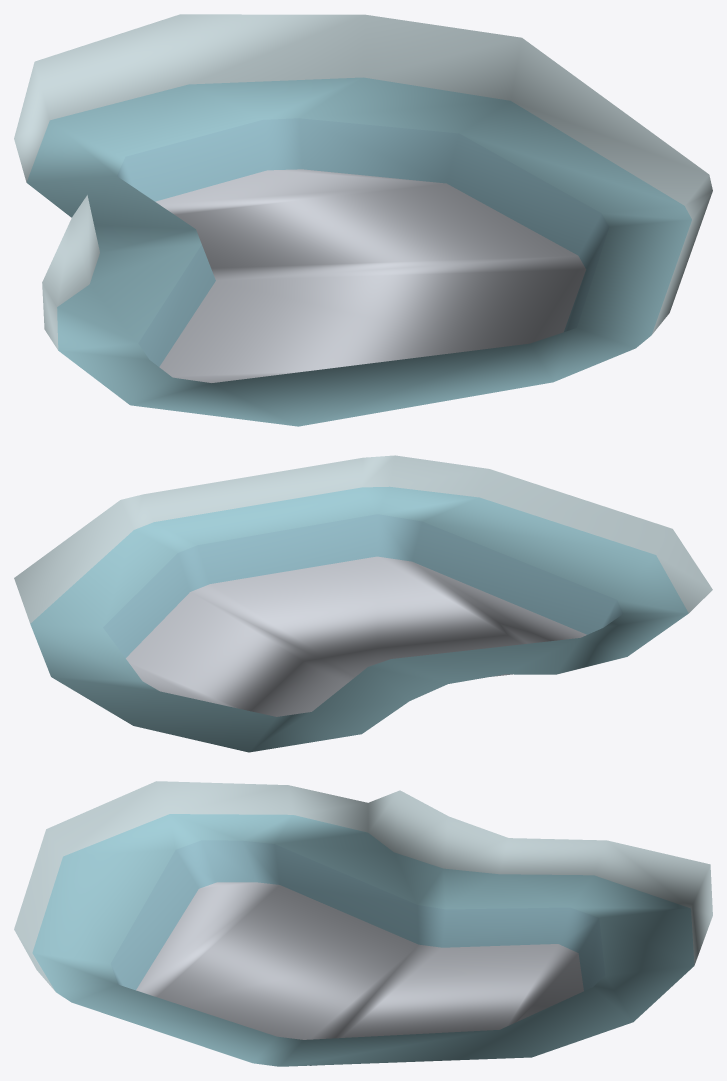
File: welcomeIceBergColliderPool.glb
3 renders of one model, top to bottom at view 1: azimuth 30°, elevation 25°; view 2: azimuth 150°, elevation 25°; view 3: azimuth 270°, elevation 25°, orthographic. The views are drawn at different scales.
Parts seen in each view (by area): view 1: welcomeIceBergColliderPool; view 2: welcomeIceBergColliderPool; view 3: welcomeIceBergColliderPool.
Part boxes in pixels (x1,y1,x2,y2): welcomeIceBergColliderPool: (14, 14, 712, 426); welcomeIceBergColliderPool: (14, 455, 712, 752); welcomeIceBergColliderPool: (14, 781, 712, 1066).
Bounding box in the file's own units: 4.22 × 0.6634 × 4.61.
